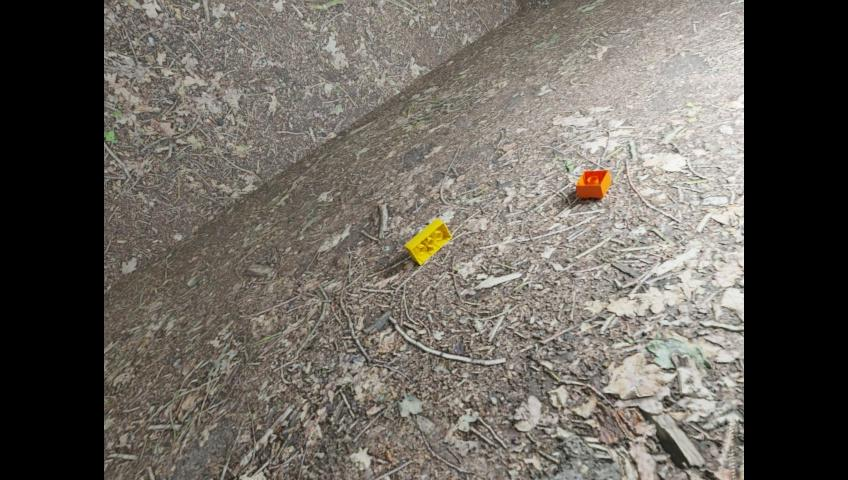2x2_orange: (575, 169, 610, 198)
4x2_yellow: (404, 218, 451, 264)
